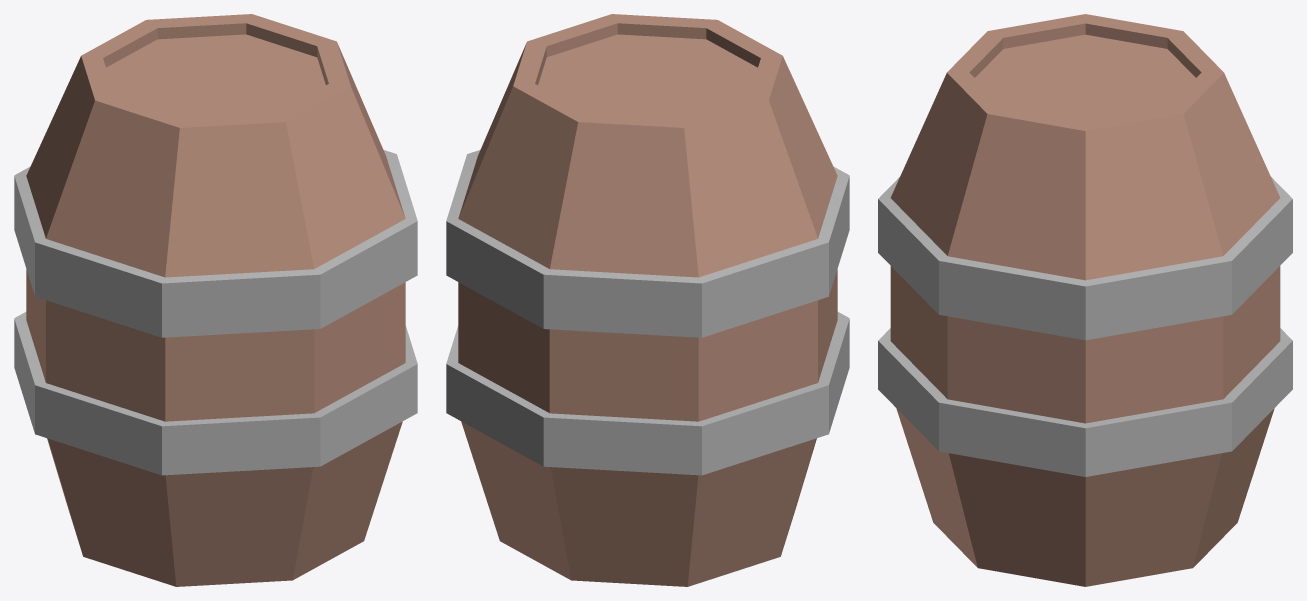
Rendered from SM_WoodBarrel_1.fbx.
3 renders of one model, left to right at view 1: azimuth 30°, elevation 25°; view 2: azimuth 150°, elevation 25°; view 3: azimuth 270°, elevation 25°, orthographic.
Parts seen in each view (by area): view 1: pCylinder1; view 2: pCylinder1; view 3: pCylinder1.
Part boxes in pixels (box(x1,y1,x2,y2)): pCylinder1: box(14, 14, 417, 586); pCylinder1: box(446, 14, 849, 586); pCylinder1: box(878, 14, 1292, 586).
Size of the model in its own units: 0.8655 by 1.04 by 0.8655.
